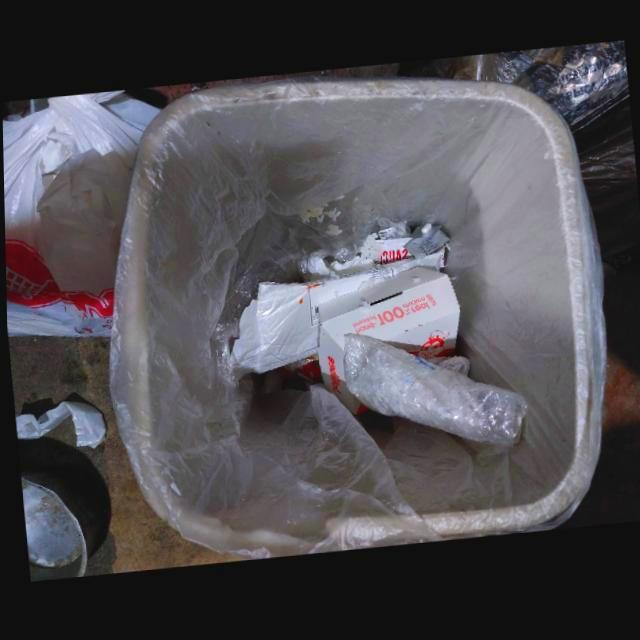cardboard: (316, 269, 459, 418)
paper: (305, 251, 375, 282), (424, 359, 473, 380)
plastic_bag: (231, 252, 444, 380), (341, 335, 526, 450)
plastic_sachet: (373, 240, 412, 269)
